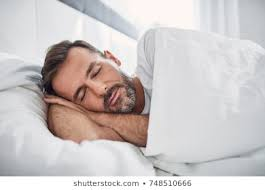sleeping: (32, 24, 265, 155)
